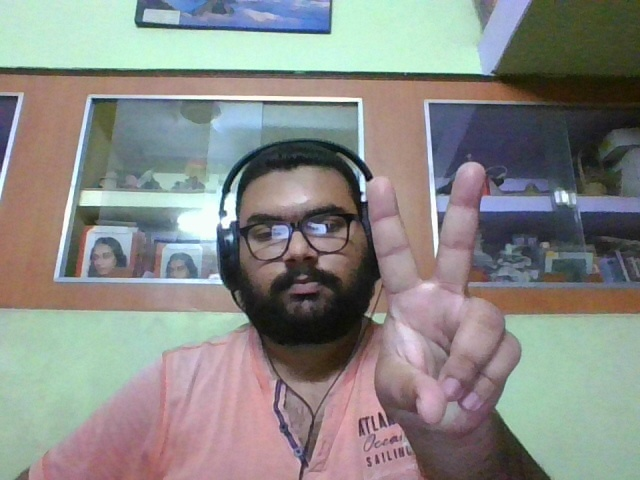iloveyou: (365, 162, 523, 434)
